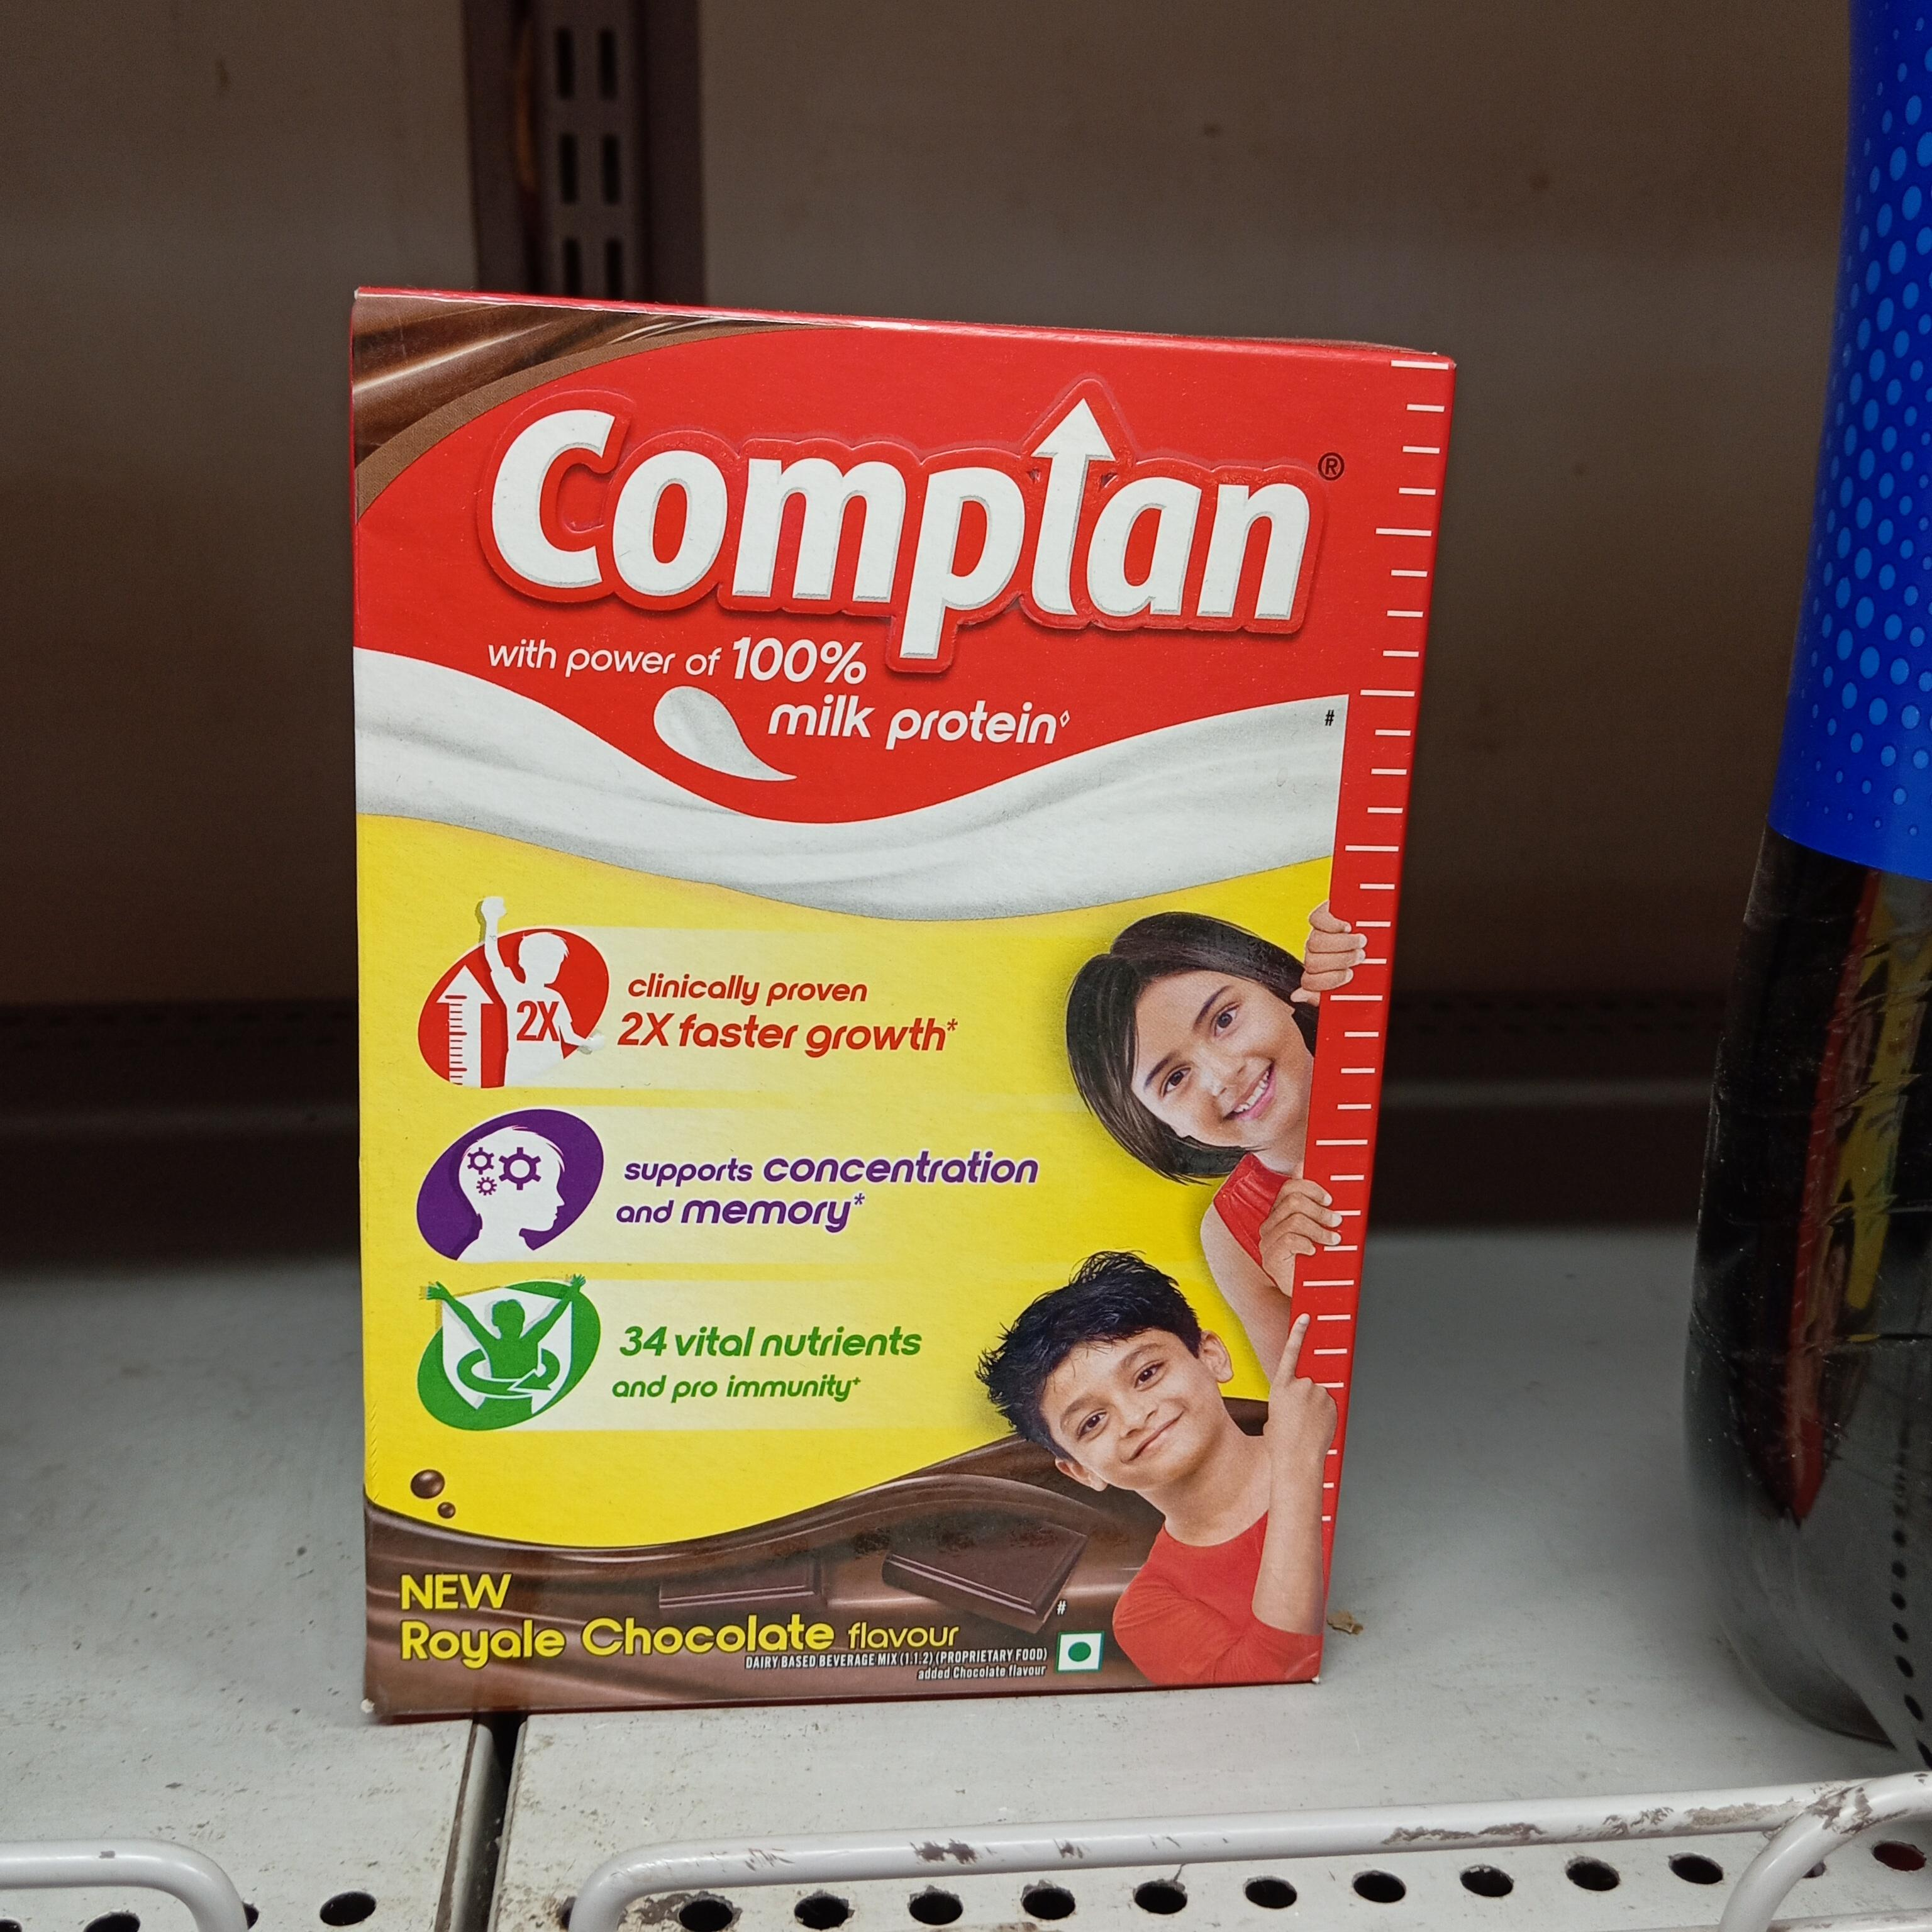COMPLAN_CHOCOLATE_200_GMS_PACK: (368, 315, 1412, 1721)
